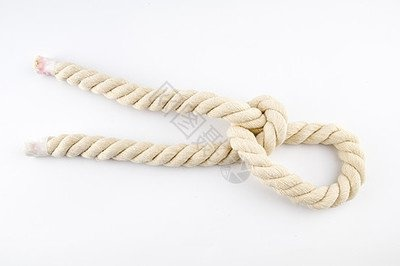9/可回收垃圾/绳子: (21, 54, 368, 209)
